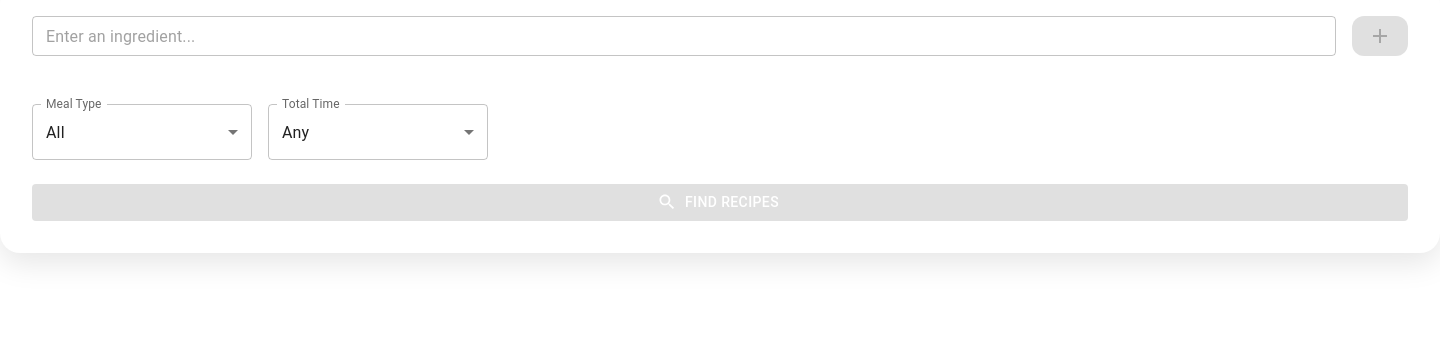
Scenario: RecipePredictionForm › changes meal type when selecting from dropdown
This screenshot has width=1440, height=350.
Press the mouse on the dropdown named "Meal Type" at (55, 132), box [46,122,65,142]
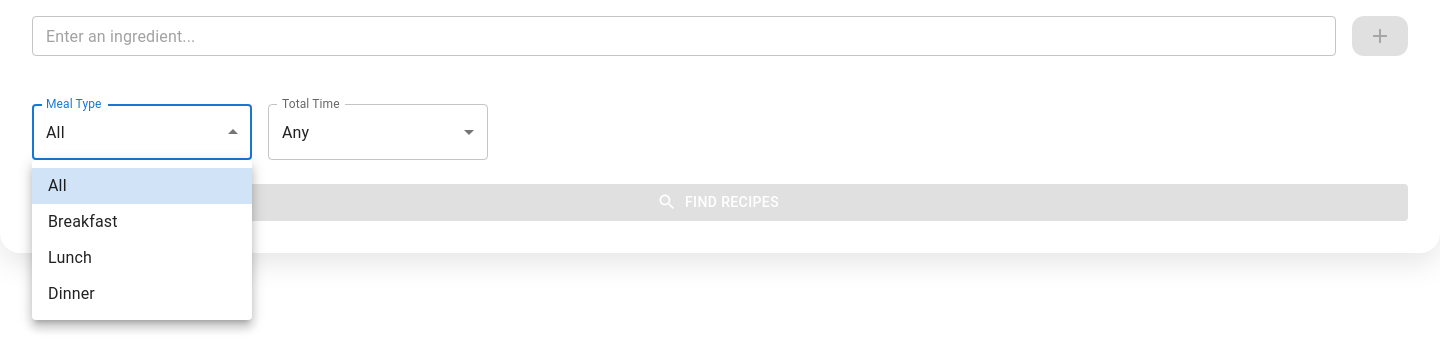
Click the option "Breakfast". click: (83, 222)
box: [48,212,118,231]
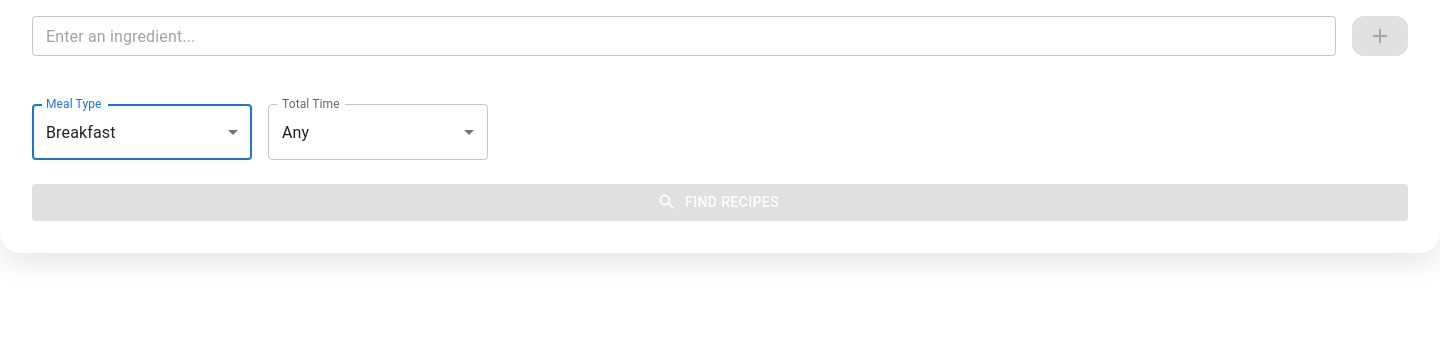
Expected: the dropdown named "Meal Type" reads "Breakfast", [46,122,116,142]
